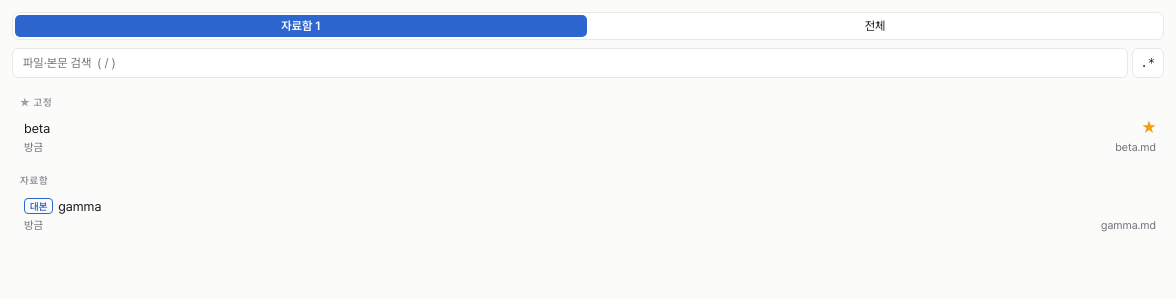
Scenario: FlatList 자료함 › type 표시 파일이 있으면 자료함만 보여 주고 전체로 넘길 수 있다
Check: the text "대본" is shown, box x1=24 y1=198 x2=53 y2=214
Check: the text "alpha" is not shown
Click the tab "전체".
click(875, 26)  # box x1=589 y1=15 x2=1161 y2=37
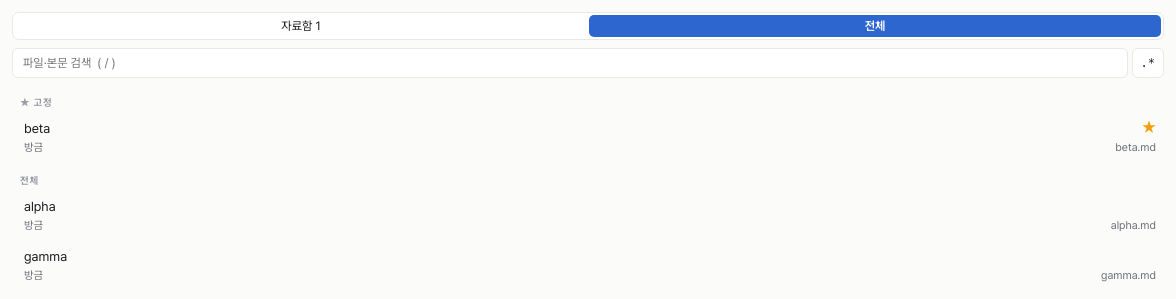
Check: the text "alpha" is shown, box x1=24 y1=199 x2=56 y2=214
